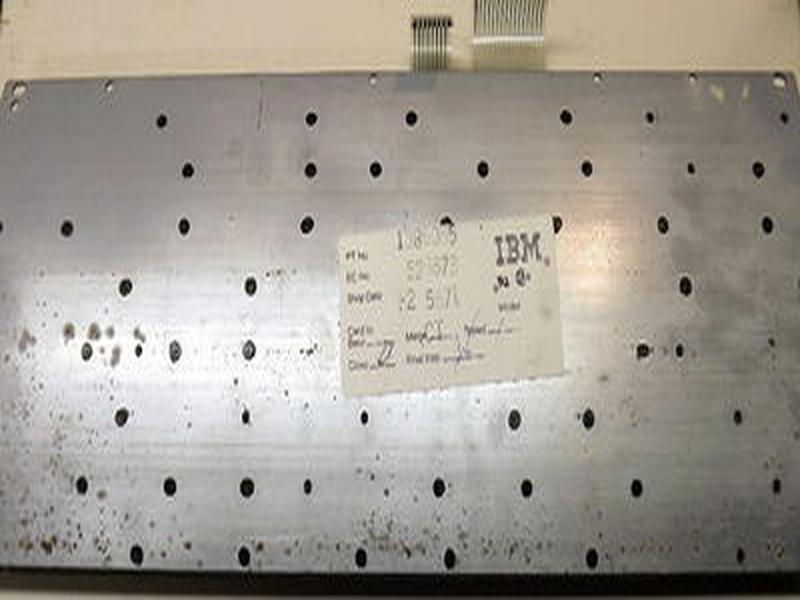hole: (438, 542, 462, 574), (110, 404, 137, 432), (125, 540, 149, 569), (294, 212, 319, 238), (428, 474, 451, 501), (504, 405, 527, 432), (234, 543, 255, 571), (652, 212, 676, 236), (175, 213, 196, 240), (237, 475, 259, 500), (401, 106, 423, 131), (516, 475, 537, 501), (73, 472, 93, 499), (579, 405, 599, 432), (584, 544, 603, 572), (161, 474, 181, 500), (117, 275, 137, 300), (351, 544, 370, 570), (632, 339, 653, 362), (626, 476, 646, 500), (676, 275, 696, 299), (301, 158, 321, 182), (58, 215, 77, 240), (366, 159, 387, 181), (556, 106, 577, 128), (302, 108, 323, 130), (475, 155, 492, 182), (671, 338, 689, 363), (578, 155, 596, 180), (237, 407, 258, 428), (242, 273, 260, 297), (750, 158, 768, 181), (759, 212, 776, 236), (179, 159, 197, 181), (768, 476, 785, 499), (357, 407, 376, 426), (731, 545, 748, 566), (153, 112, 170, 132), (301, 476, 315, 499), (729, 405, 743, 427), (131, 342, 146, 360), (643, 110, 656, 127), (685, 160, 697, 176), (779, 113, 792, 125)
screw: (238, 339, 260, 365), (167, 339, 186, 363), (78, 341, 97, 362)
